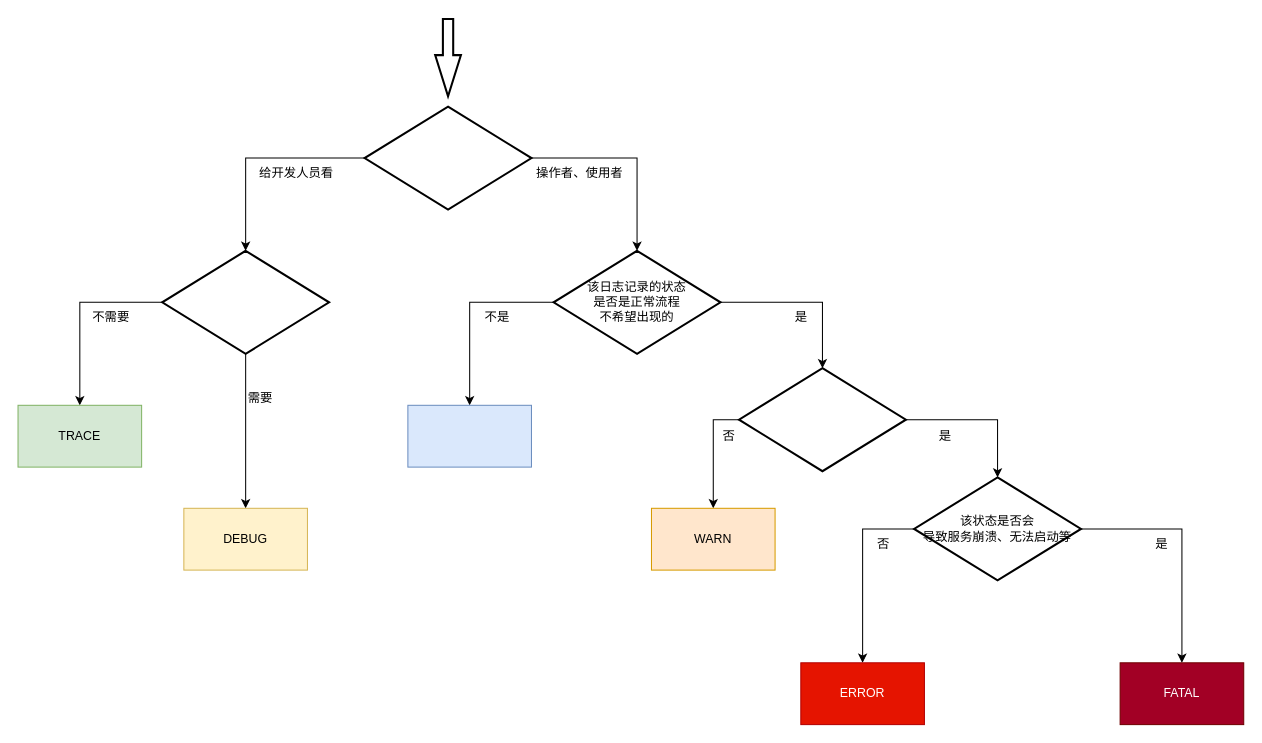
Image size: 1262x743. Some labels were removed from this diagram. Each missing label, with the box of its shape:
INFO: (407, 404, 531, 467)
打印改日志时 是 为了让谁看的: (363, 105, 532, 210)
是否需要记录变量的状态: (161, 249, 330, 354)
该状态是否会导致 后续处理无法继续: (737, 367, 906, 472)
